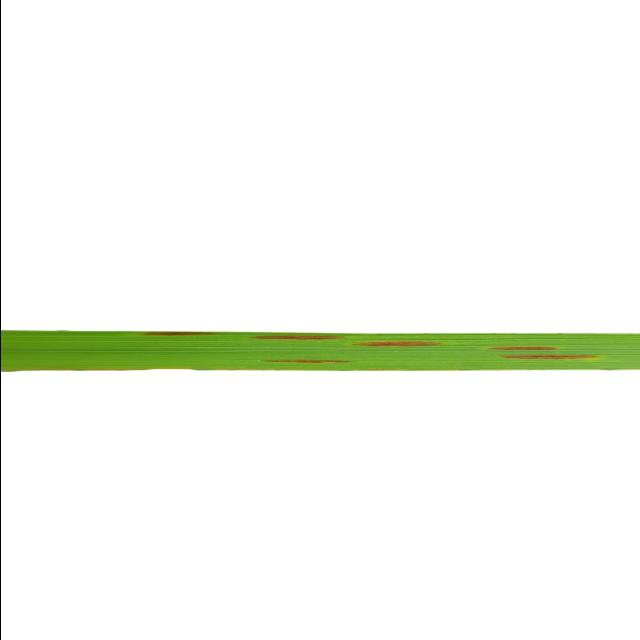Narrow brown: (0, 256, 640, 525)
